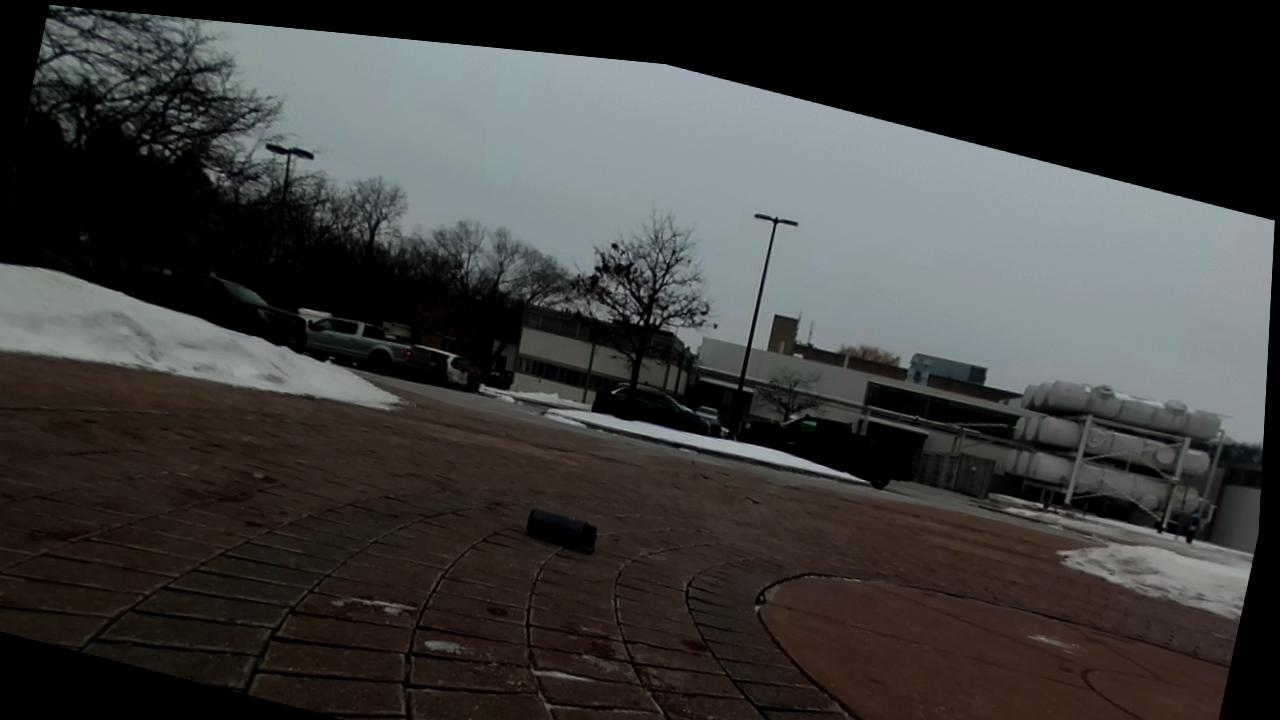bottle: (527, 509, 596, 551)
